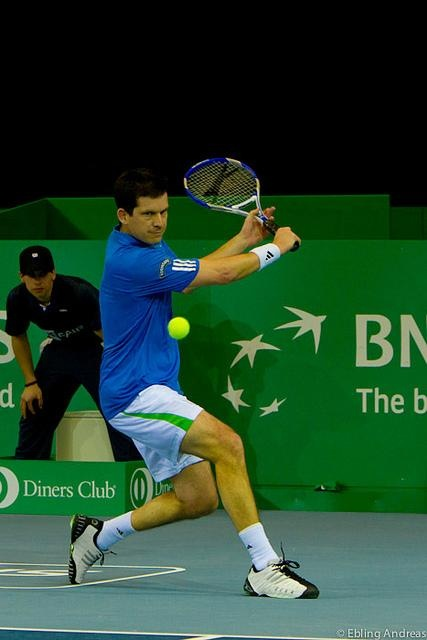person: (65, 167, 323, 600), (2, 242, 167, 483)
